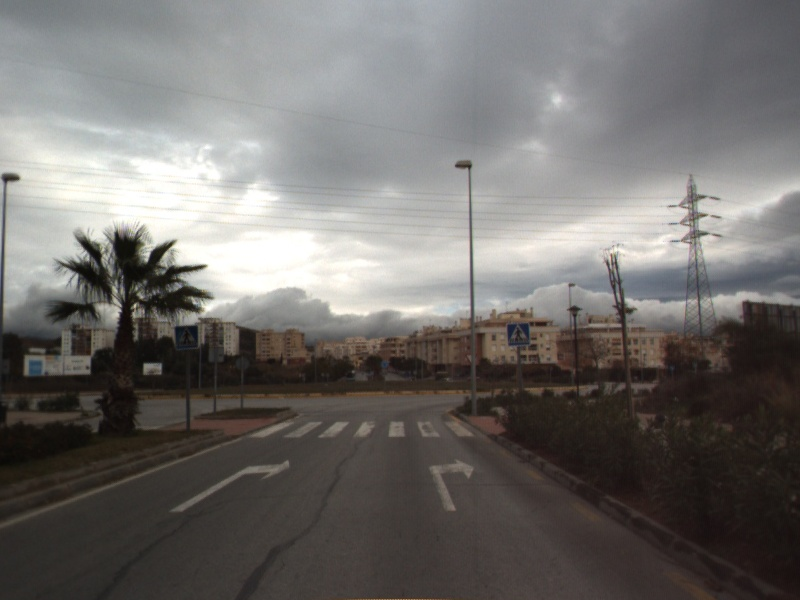RIGHT: (168, 458, 292, 514), (427, 457, 477, 513)
